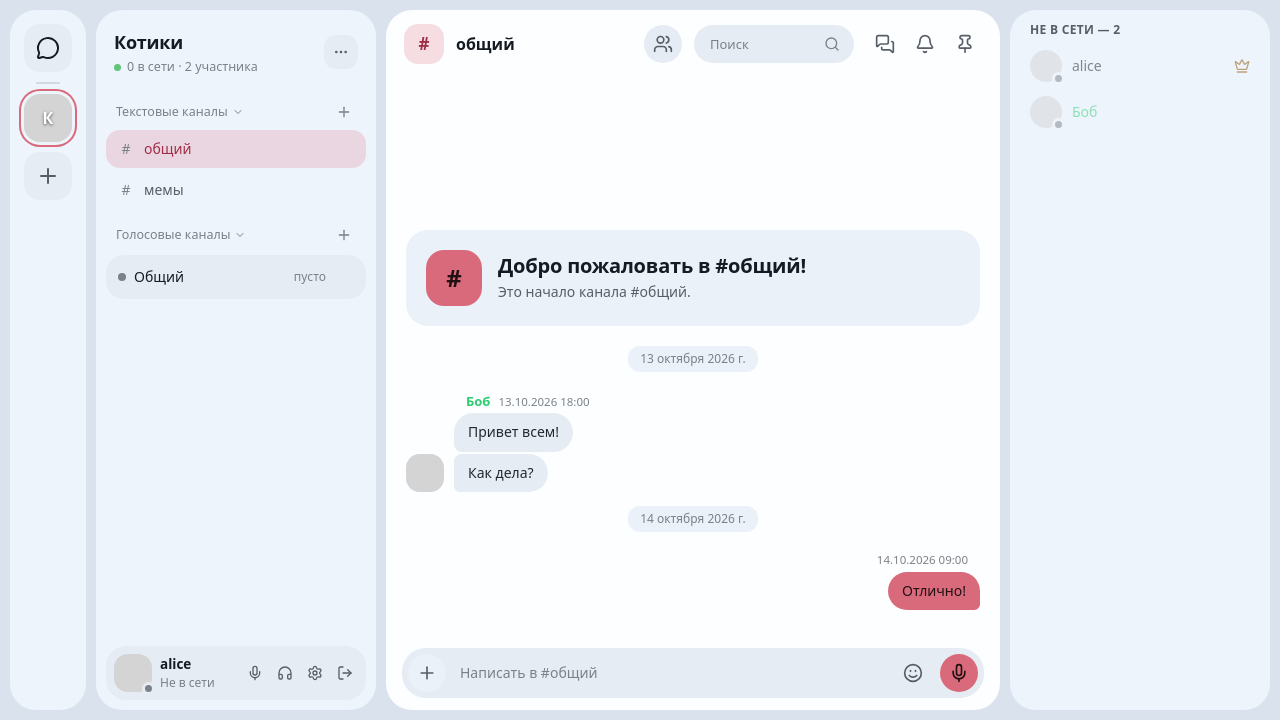
Test: searching a server › says when a filter names nobody
This screenshot has width=1280, height=720.
Type "from:nobody" into the search field labelled "Поиск" at (774, 44), box x1=694 y1=25 x2=854 y2=63
Then press Enter
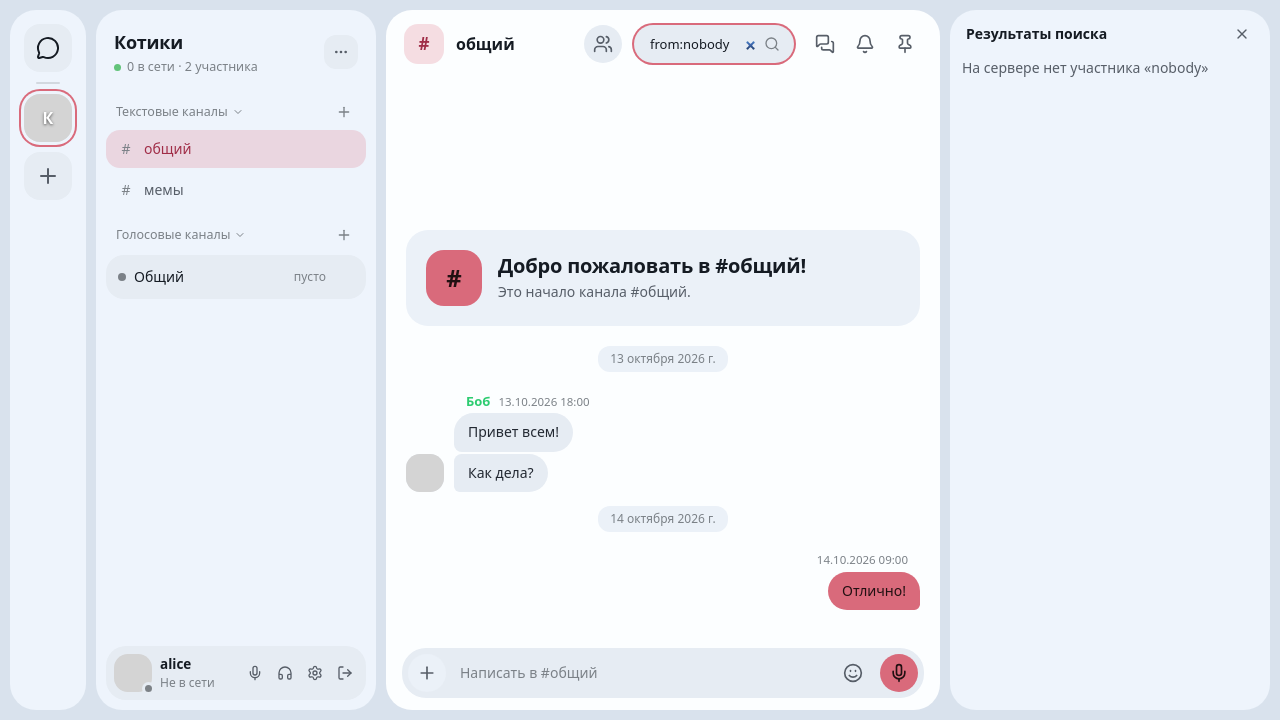
Expected: the text "На сервере нет участника «nobody»" is shown, x1=962 y1=58 x2=1208 y2=77
